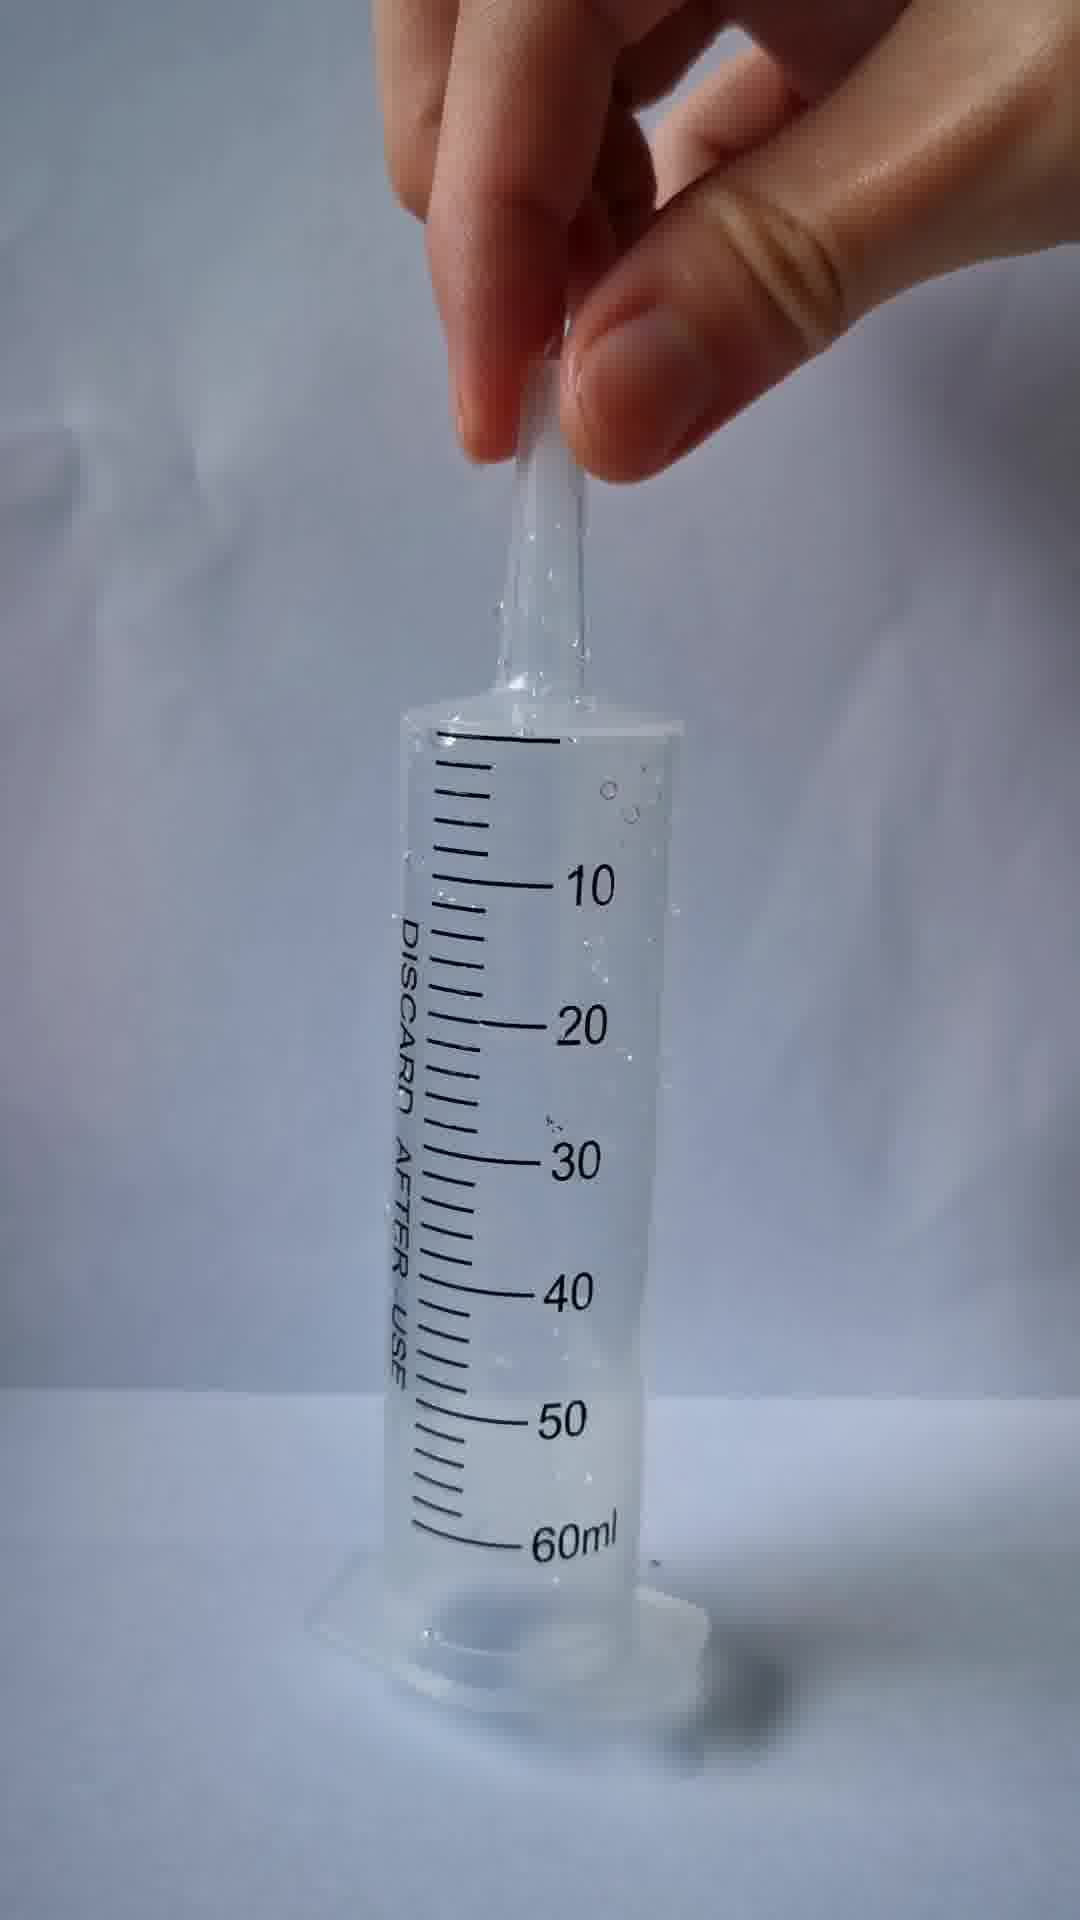syringe: (291, 363, 717, 1716)
